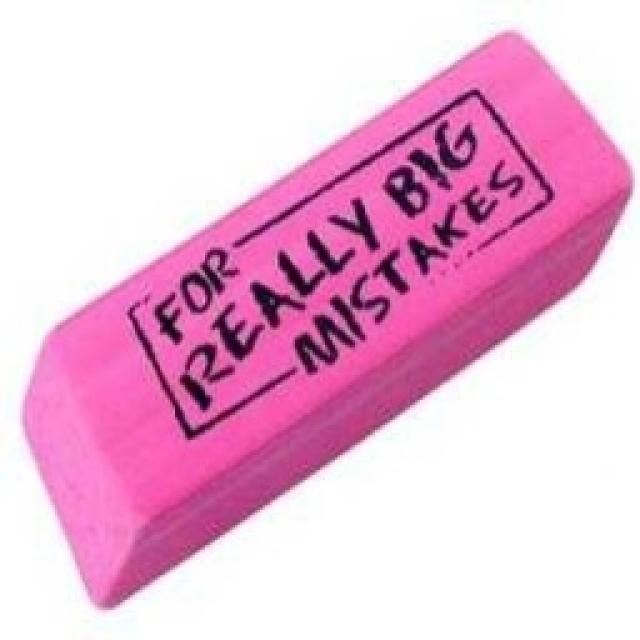Silgi: (22, 24, 636, 609)
